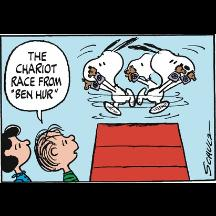snoopy: (81, 36, 197, 116)
